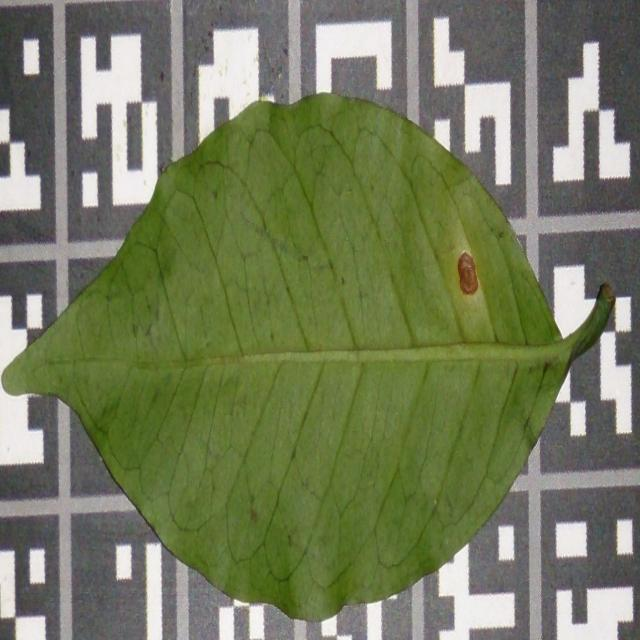Enfermedad-Mancha-de-hierro: (1, 94, 619, 622)
